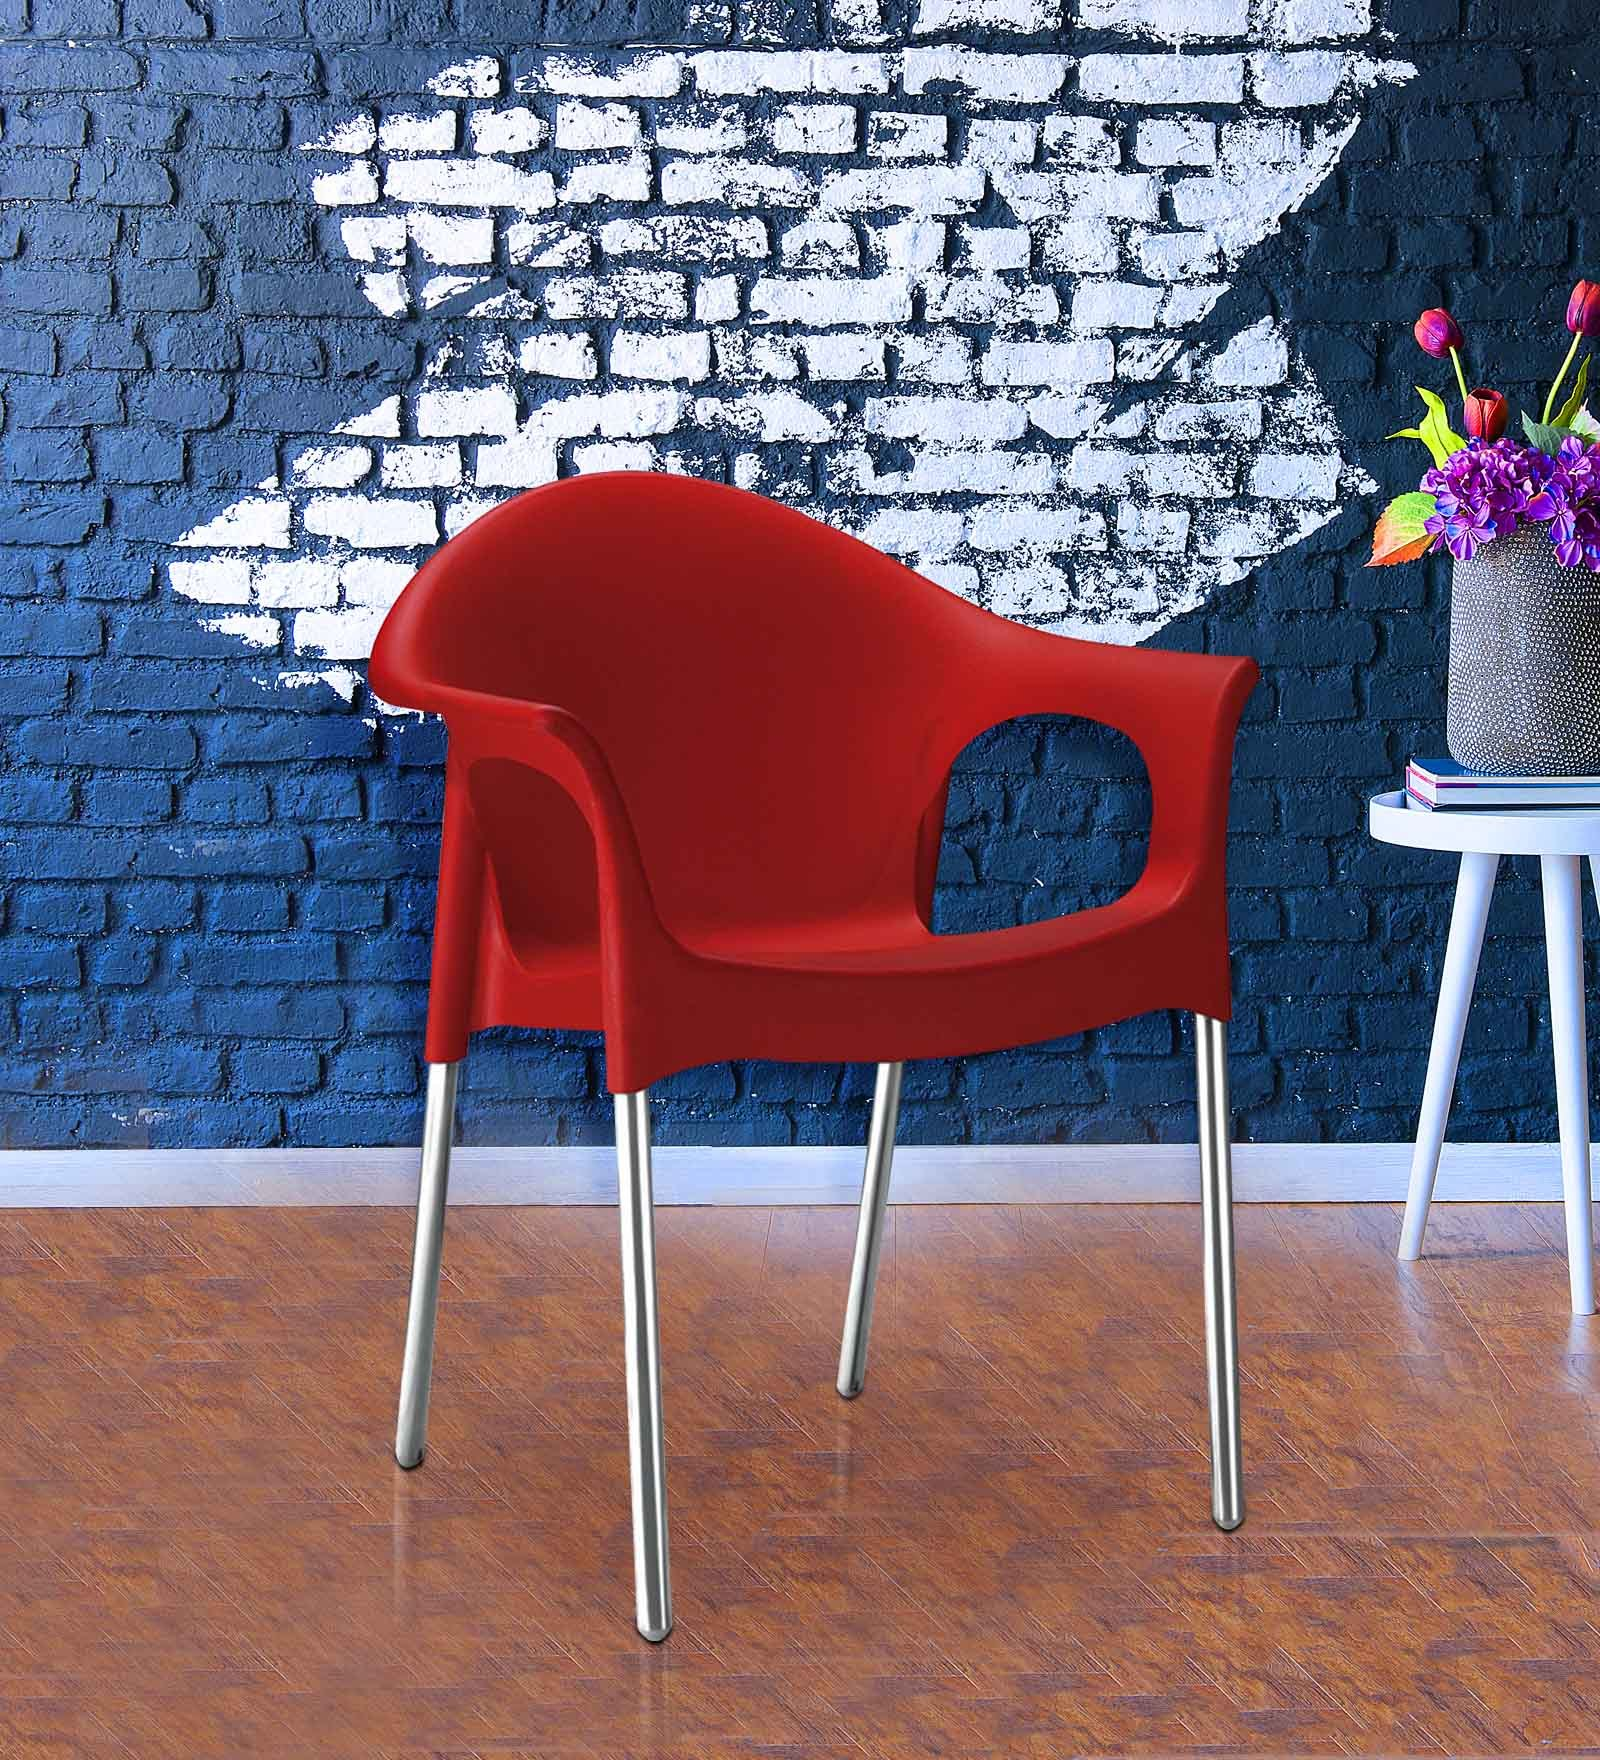Novella Visiter Chair With Arms in Red Colour by Nilkamal: (366, 460, 1260, 1645)
